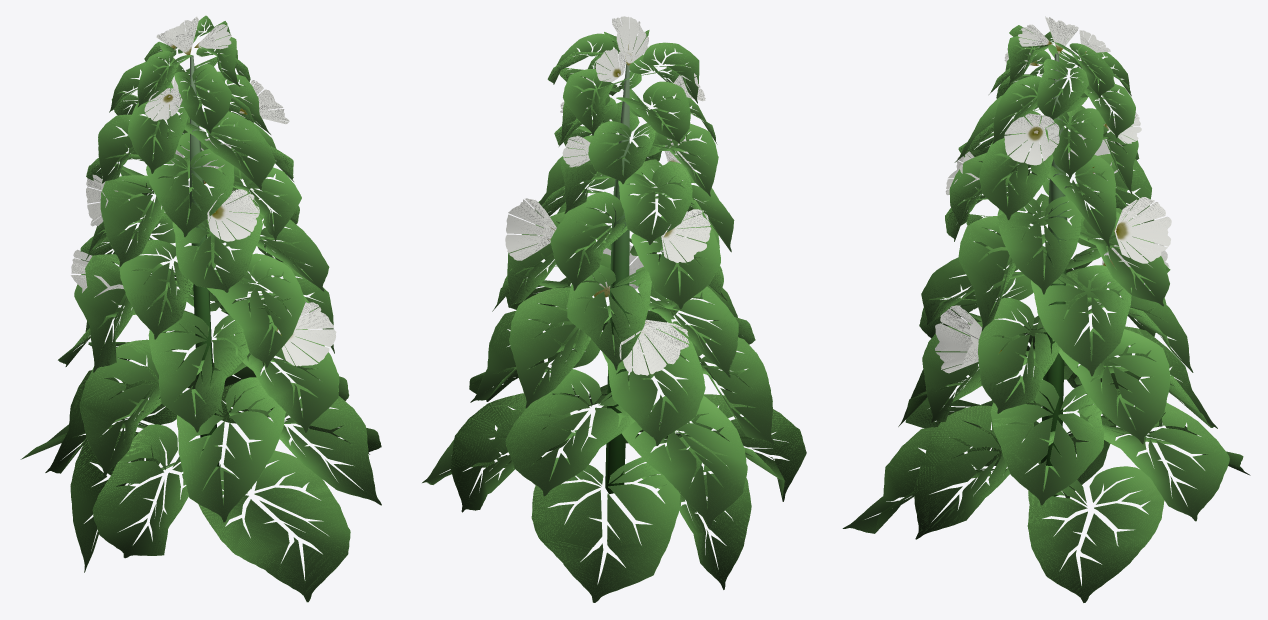
3 views of the same model, side by side, from view 1: azimuth 30°, elevation 25°; view 2: azimuth 150°, elevation 25°; view 3: azimuth 270°, elevation 25° (orthographic).
Parts seen in each view (by area): view 1: white_flower; view 2: white_flower; view 3: white_flower.
Part boxes in pixels (x1,y1,x2,y2): white_flower: (20, 15, 381, 602); white_flower: (422, 16, 806, 602); white_flower: (842, 16, 1250, 602).
Size of the model in its own units: 175 by 276 by 192.
Materials: 1 (1 with a texture image).
